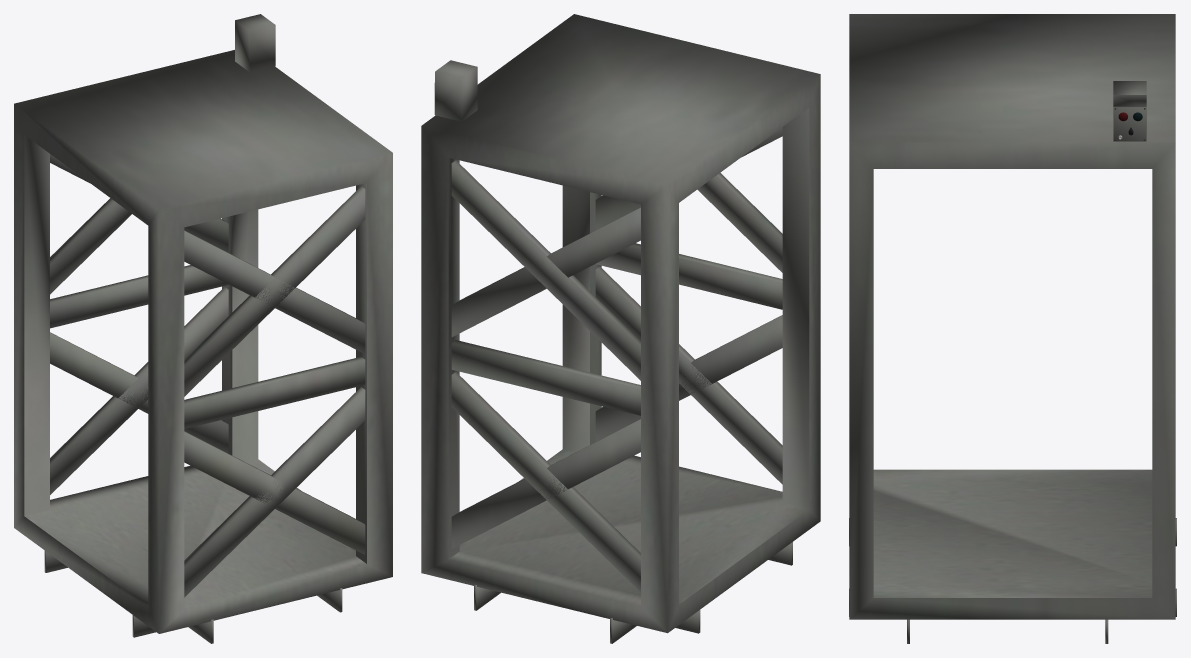
File: shortEquipmentRack.obj
3 views of the same model, side by side, from view 1: azimuth 30°, elevation 25°; view 2: azimuth 150°, elevation 25°; view 3: azimuth 270°, elevation 25° (orthographic). The views are drawn at different scales.
Visible parts, largest first — view 1: Default; view 2: Default; view 3: Default.
Boxes of the visible parts, x1,y1,x2,y2 form: Default: (14, 14, 392, 643); Default: (421, 14, 820, 643); Default: (849, 14, 1176, 643).
Size of the model in its own units: 4.55 by 8.98 by 4.85.
